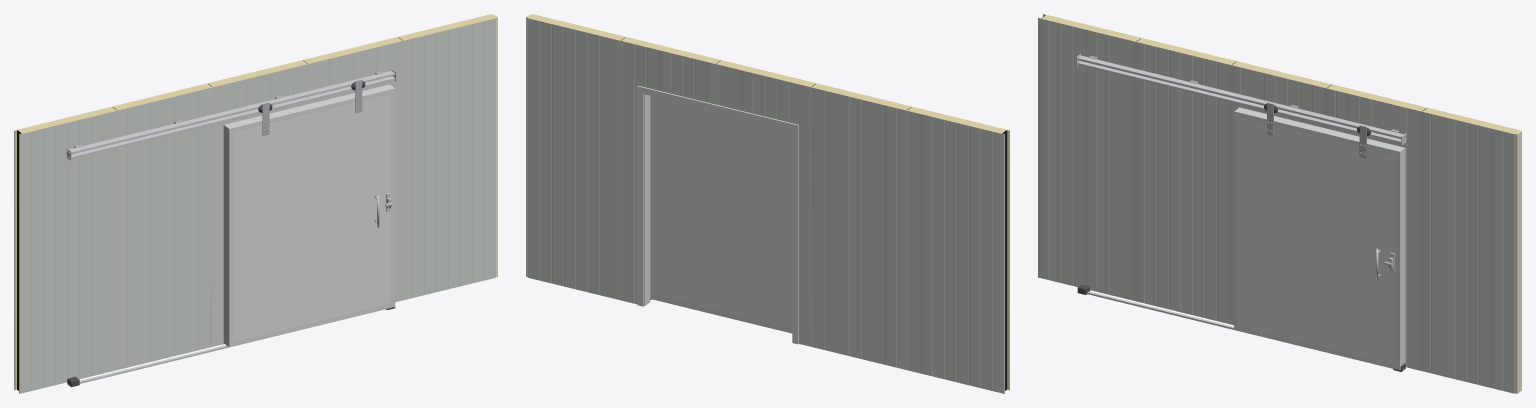
The model's file is sliding-5x7.glb.
The picture shows the model from 3 angles, left to right: view 1: azimuth 30°, elevation 25°; view 2: azimuth 150°, elevation 25°; view 3: azimuth 330°, elevation 25°; orthographic projection.
Visible parts, largest first — view 1: SkinF, Wall_p4_Steel_top, Wall_p0_Steel_top, Wall_p1_Steel_top, Wall_p2_Steel_top, Wall_p3_Steel_top, RailTop, RailBot, AluWebL, Wall_p0_PIR_core, AluF_L, AluF_R (+12 smaller); view 2: SkinB, Wall_p0_Steel_bottom, Wall_p4_Steel_bottom, Wall_p1_Steel_bottom, Wall_p3_Steel_bottom, Wall_p2_Steel_bottom, TrimB_L, TrimB_R, LinerR, TrimB_T, Wall_p0_PIR_core, AluB_B (+7 smaller); view 3: SkinF, Wall_p4_Steel_top, Wall_p0_Steel_top, Wall_p1_Steel_top, Wall_p3_Steel_top, Wall_p2_Steel_top, RailTop, Wall_p4_Tongue_tape, RailBot, AluWebR, AluF_R, AluF_L (+10 smaller).
Part boxes in pixels (x1,y1,x2,y2): SkinF: (233,94,390,341); Wall_p4_Steel_top: (400,18,495,300); Wall_p0_Steel_top: (19,111,114,393); Wall_p1_Steel_top: (115,88,210,370); Wall_p2_Steel_top: (210,65,305,347); Wall_p3_Steel_top: (305,41,400,302); RailTop: (69,71,395,153); RailBot: (71,76,395,158); AluWebL: (223,125,229,346); Wall_p0_PIR_core: (14,107,115,389); AluF_L: (229,129,233,346); AluF_R: (391,89,395,306); SkinB: (650,96,792,328); Wall_p0_Steel_bottom: (909,111,1004,393); Wall_p4_Steel_bottom: (528,18,623,300); Wall_p1_Steel_bottom: (813,88,908,370); Wall_p3_Steel_bottom: (623,41,718,305); Wall_p2_Steel_bottom: (718,65,813,347); TrimB_L: (792,125,798,344); TrimB_R: (637,86,643,306); LinerR: (644,94,650,306); TrimB_T: (637,85,798,130); Wall_p0_PIR_core: (908,107,1009,389); AluB_B: (650,294,792,333); SkinF: (1238,117,1395,364); Wall_p4_Steel_top: (1419,111,1514,393); Wall_p0_Steel_top: (1038,18,1133,300); Wall_p1_Steel_top: (1133,41,1228,323); Wall_p3_Steel_top: (1324,87,1419,370); Wall_p2_Steel_top: (1228,64,1323,325); RailTop: (1077,55,1403,138); Wall_p4_Tongue_tape: (1515,131,1521,393); RailBot: (1077,61,1401,143); AluWebR: (1399,148,1405,369); AluF_R: (1396,152,1400,369); AluF_L: (1234,112,1238,329).
Size of the model in its own units: 5.02 by 2.6 by 0.302.
